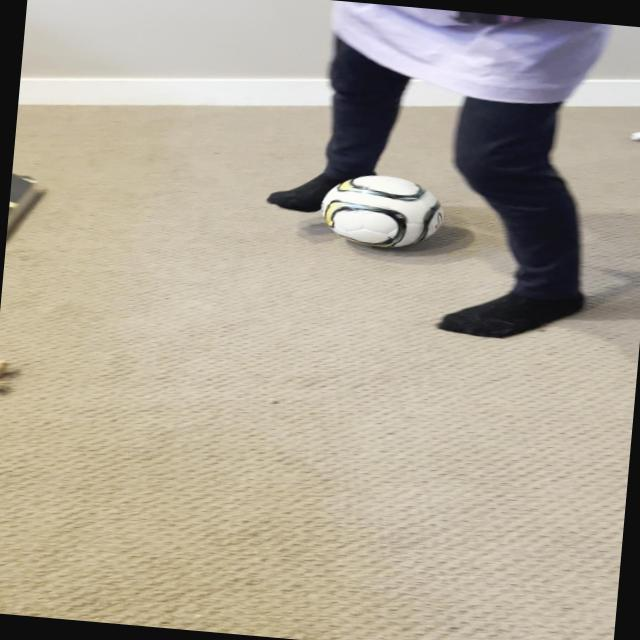Soccer Ball: (316, 170, 446, 252)
